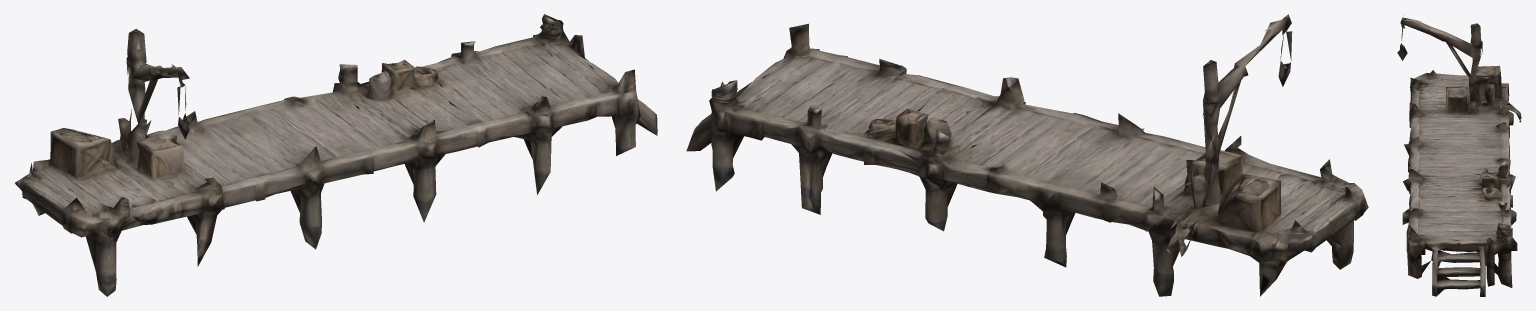
The model's file is jetty.glb.
3 renders of one model, left to right at view 1: azimuth 30°, elevation 25°; view 2: azimuth 150°, elevation 25°; view 3: azimuth 270°, elevation 25°, orthographic. The views are drawn at different scales.
Parts seen in each view (by area): view 1: tripo_node_ae40e6d7-8f5c-406c-b4b2-5036989668ff; view 2: tripo_node_ae40e6d7-8f5c-406c-b4b2-5036989668ff; view 3: tripo_node_ae40e6d7-8f5c-406c-b4b2-5036989668ff.
Part boxes in pixels (x1=…): tripo_node_ae40e6d7-8f5c-406c-b4b2-5036989668ff: x1=15, y1=14, x2=657, y2=296; tripo_node_ae40e6d7-8f5c-406c-b4b2-5036989668ff: x1=686, y1=14, x2=1368, y2=296; tripo_node_ae40e6d7-8f5c-406c-b4b2-5036989668ff: x1=1397, y1=15, x2=1521, y2=296.
Bounding box in the file's own units: 0.9734 × 0.3425 × 0.2825.
1 material, 1 textured.
